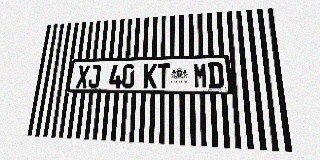0: (121, 64, 135, 88)
4: (109, 64, 122, 88)
D: (208, 62, 224, 89)
J: (87, 65, 101, 88)
K: (143, 63, 157, 88)
M: (193, 62, 208, 89)
T: (157, 63, 171, 88)
X: (76, 65, 90, 88)
